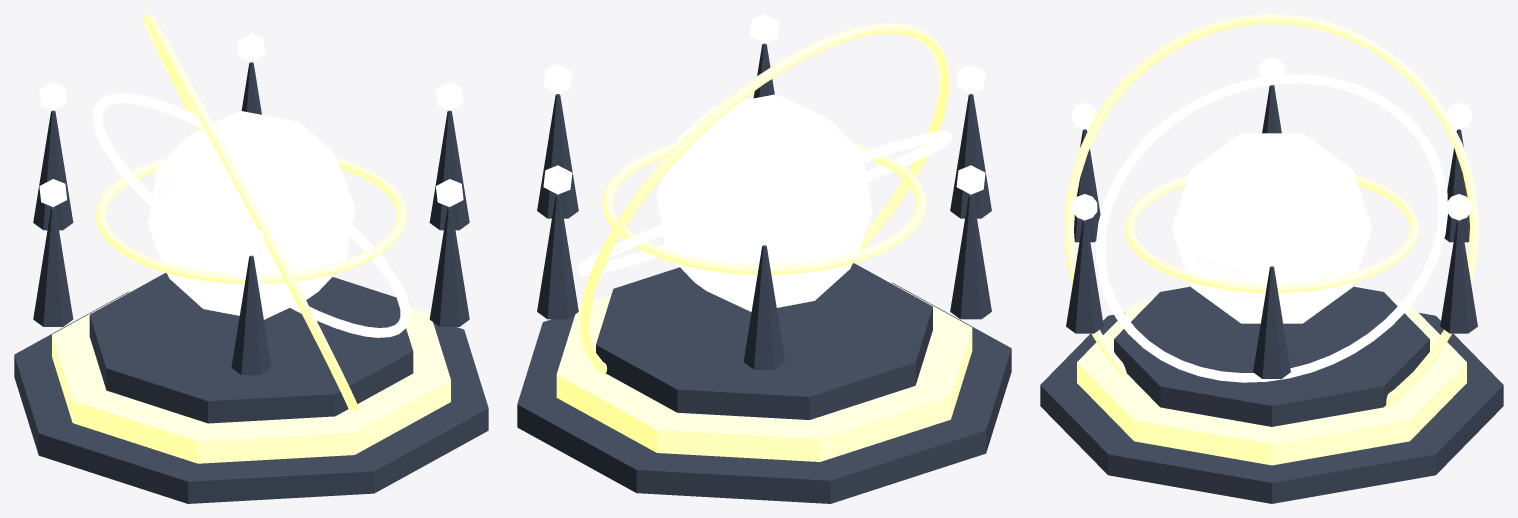
Rendered from gpu-blender-v4.glb.
3 views of the same model, side by side, from view 1: azimuth 30°, elevation 25°; view 2: azimuth 150°, elevation 25°; view 3: azimuth 270°, elevation 25° (orthographic). The views are drawn at different scales.
Parts seen in each view (by area): view 1: Cylinder.002, SovereignCore_aeo-graph-engine, Cylinder, Cylinder.001, Torus.001, Torus.002, Torus, Cone.004, Cone.003, Cone.005, Cone, Cone.002 (+7 smaller); view 2: Cylinder.002, SovereignCore_aeo-graph-engine, Cylinder, Cylinder.001, Torus.002, Torus.001, Torus, Cone.001, Cone.003, Cone.002, Cone, Cone.004 (+6 smaller); view 3: SovereignCore_aeo-graph-engine, Cylinder.002, Cylinder, Cylinder.001, Torus.001, Torus.002, Torus, Cone.001, Cone.005, Cone, Cone.004, Cone.002 (+4 smaller).
Boxes of the visible parts, box(x1,y1,x2,y2) form: Cylinder.002: box(89, 273, 413, 423); SovereignCore_aeo-graph-engine: box(147, 110, 355, 319); Cylinder: box(14, 291, 488, 503); Cylinder.001: box(52, 281, 450, 463); Torus.001: box(92, 93, 410, 337); Torus.002: box(143, 14, 358, 411); Torus: box(95, 158, 407, 283); Cone.004: box(231, 255, 271, 375); Cone.003: box(33, 207, 73, 326); Cone.005: box(429, 207, 469, 326); Cone: box(429, 110, 469, 230); Cone.002: box(33, 110, 73, 230); Cylinder.002: box(596, 263, 932, 419); SovereignCore_aeo-graph-engine: box(656, 94, 872, 311); Cylinder: box(517, 282, 1011, 503); Cylinder.001: box(556, 272, 972, 461); Torus.002: box(579, 23, 949, 374); Torus.001: box(577, 131, 951, 275); Torus: box(602, 143, 926, 274); Cone.001: box(537, 195, 578, 319); Cone.003: box(950, 195, 991, 319); Cone.002: box(743, 245, 785, 369); Cone: box(537, 94, 578, 218); Cone.004: box(950, 94, 991, 218); SovereignCore_aeo-graph-engine: box(1172, 133, 1371, 323); Cylinder.002: box(1114, 286, 1429, 426); Cylinder: box(1040, 313, 1503, 503); Cylinder.001: box(1077, 301, 1466, 465); Torus.001: box(1096, 74, 1447, 382); Torus.002: box(1064, 14, 1479, 406); Torus: box(1125, 175, 1418, 292); Cone.001: box(1440, 220, 1477, 333); Cone.005: box(1066, 220, 1103, 333); Cone: box(1253, 266, 1290, 378); Cone.004: box(1074, 129, 1100, 242); Cone.002: box(1444, 129, 1469, 242).
Size of the model in its own units: 4.41 by 3.72 by 4.4.
